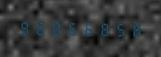eight: (129, 20, 144, 38), (49, 19, 64, 36), (97, 20, 112, 37)
five: (65, 19, 80, 36), (113, 20, 128, 37)
nine: (17, 18, 32, 36)
six: (33, 19, 48, 36), (81, 20, 96, 37)
